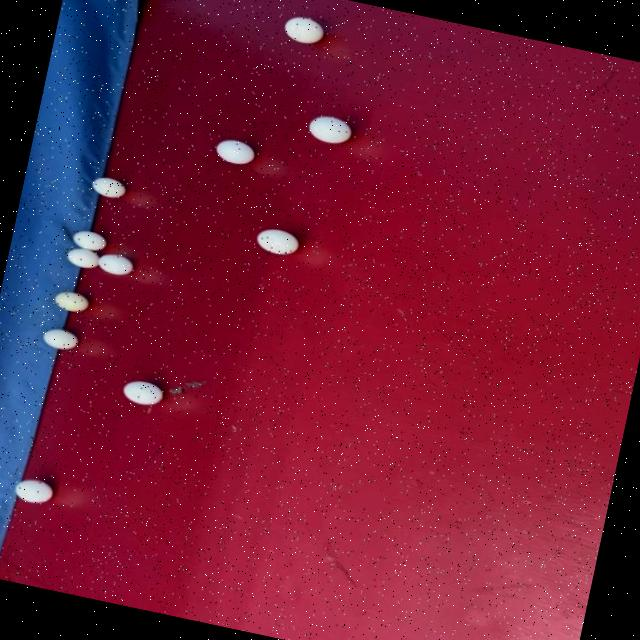ping-pong-ball: (294, 102, 366, 154), (268, 5, 336, 52), (112, 368, 171, 418), (248, 220, 310, 262), (204, 131, 266, 172), (80, 165, 136, 206), (6, 471, 62, 511), (44, 282, 98, 316), (34, 320, 82, 357), (92, 246, 141, 281), (65, 225, 112, 252), (58, 244, 99, 272)
